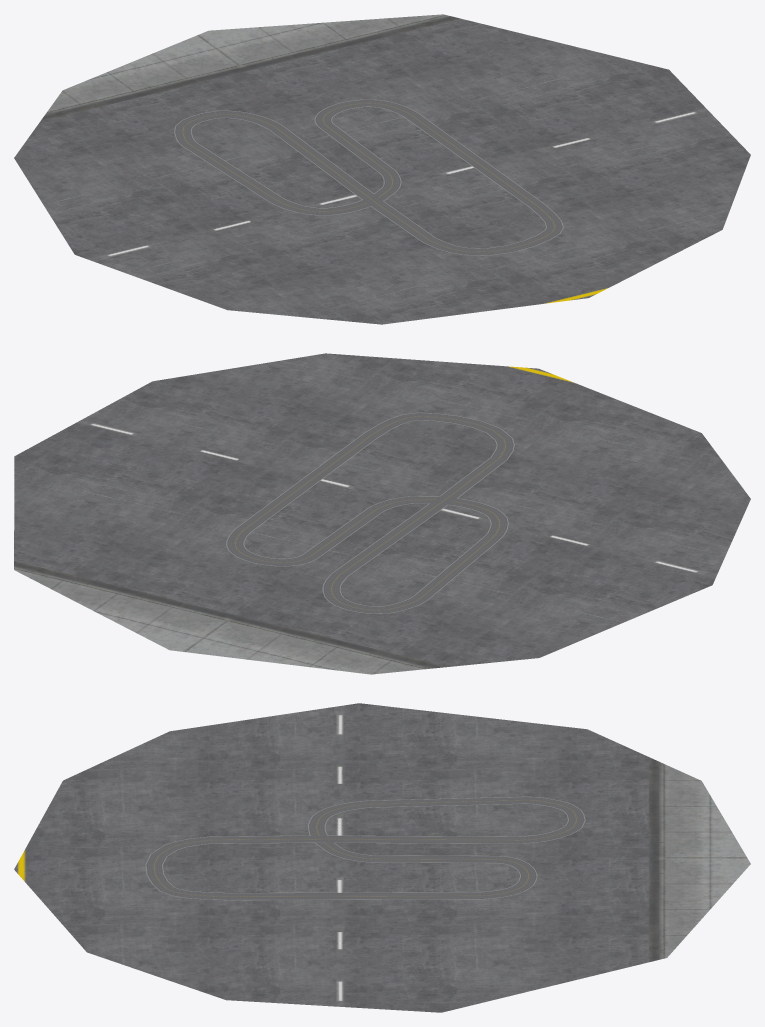
File: RoadCourse2.FBX
The picture shows the model from 3 angles, top to bottom: view 1: azimuth 30°, elevation 25°; view 2: azimuth 150°, elevation 25°; view 3: azimuth 270°, elevation 25°; orthographic projection. The views are drawn at different scales.
Parts seen in each view (by area): view 1: Loft03; view 2: Loft03; view 3: Loft03.
Part boxes in pixels (box(x1,y1,x2,y2)): Loft03: box(14, 14, 750, 324); Loft03: box(14, 353, 750, 674); Loft03: box(14, 703, 750, 1012).
Size of the model in its own units: 100290 by 0.000965 by 100896.
